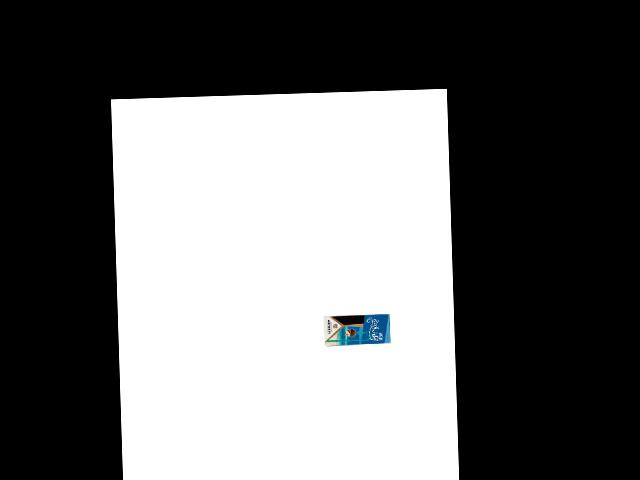chocolate: (321, 312, 391, 347)
